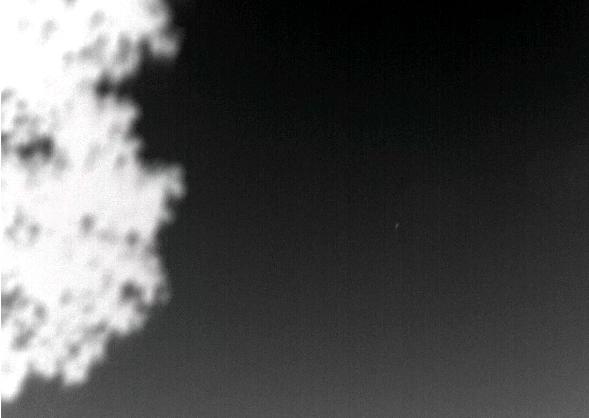dim target: (393, 222, 399, 230)
